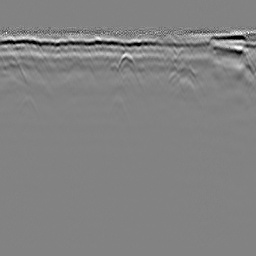cavity: (117, 51, 138, 71)
